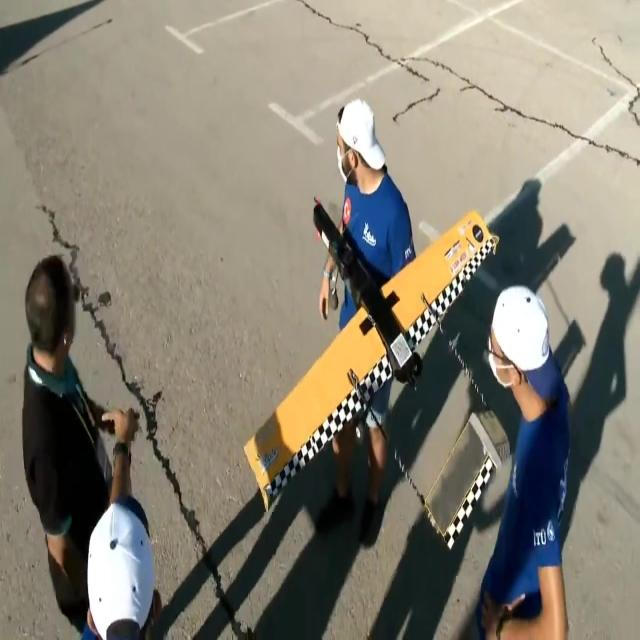iha: (242, 195, 517, 548)
